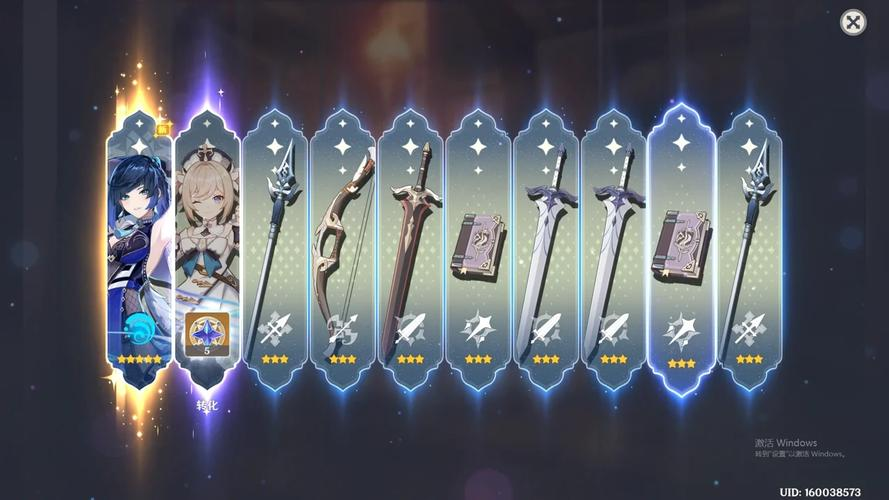夜兰: (103, 153, 173, 377)
